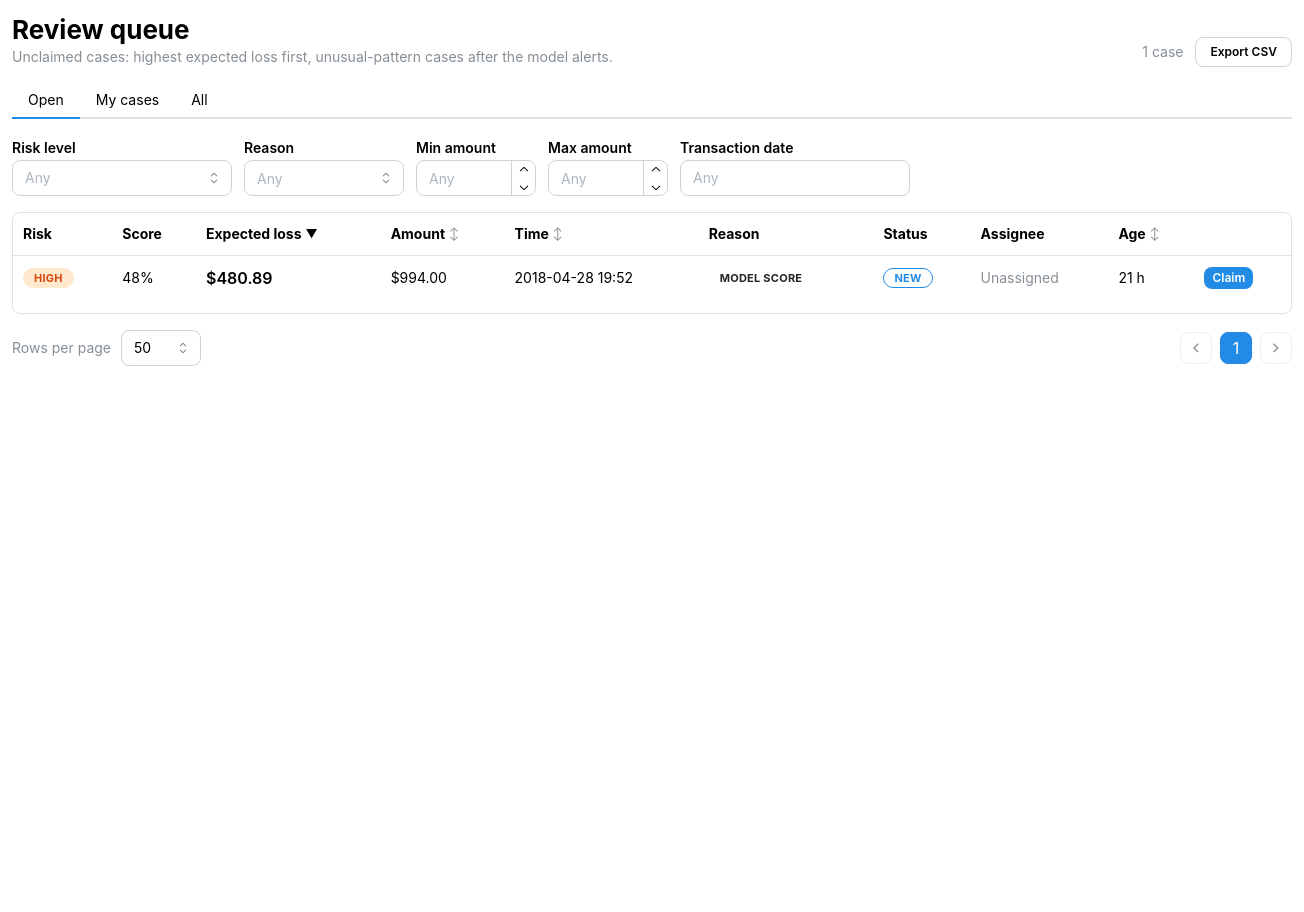
Test: claim and assign › an analyst claims a case; the queue is refreshed
The image size is (1304, 912).
Click the button "Claim" at (1229, 278), box [1204, 267, 1253, 289]
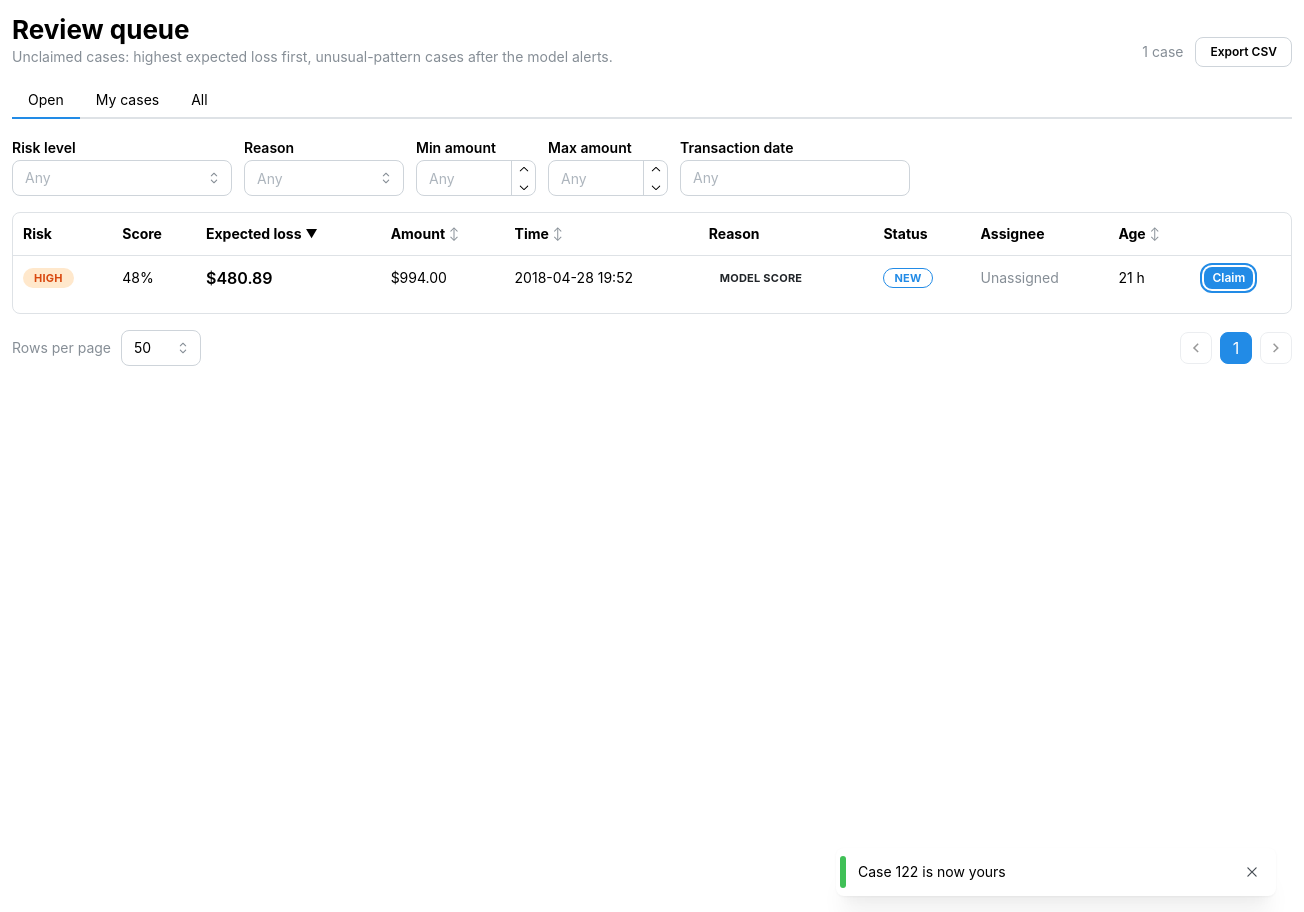
Expected: the text "Case 122 is now yours" is shown, [858, 863, 1006, 880]
